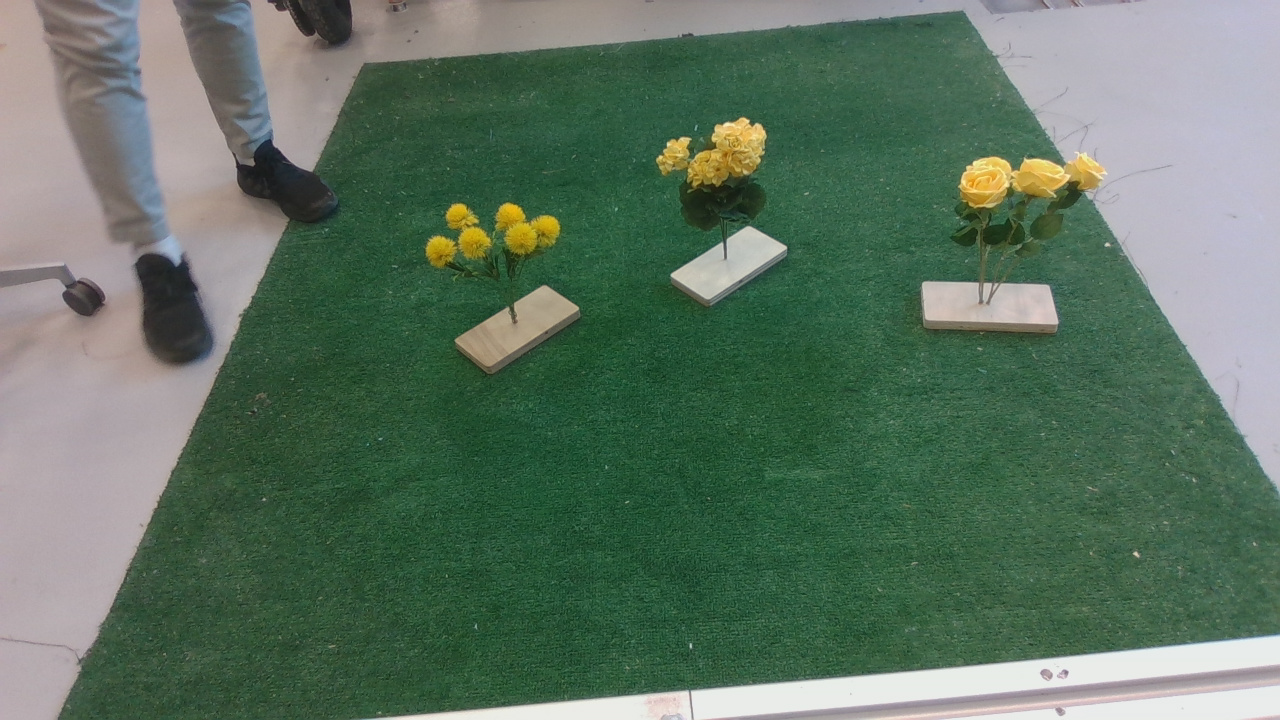dandelion: (414, 204, 572, 296)
geranium: (656, 114, 788, 238)
rose: (949, 152, 1117, 266)
